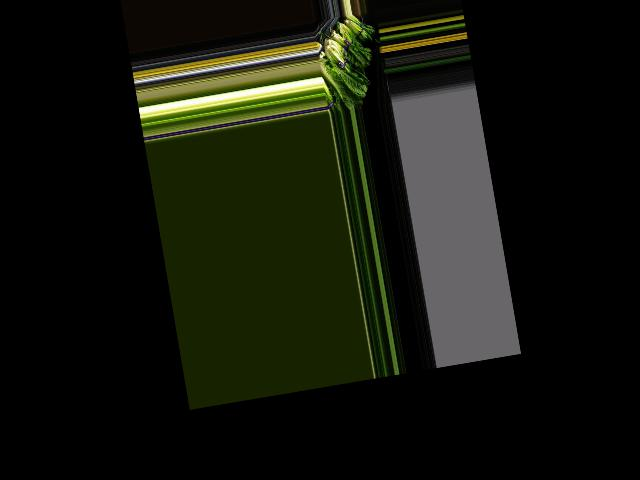lettuce: (321, 53, 367, 112)
